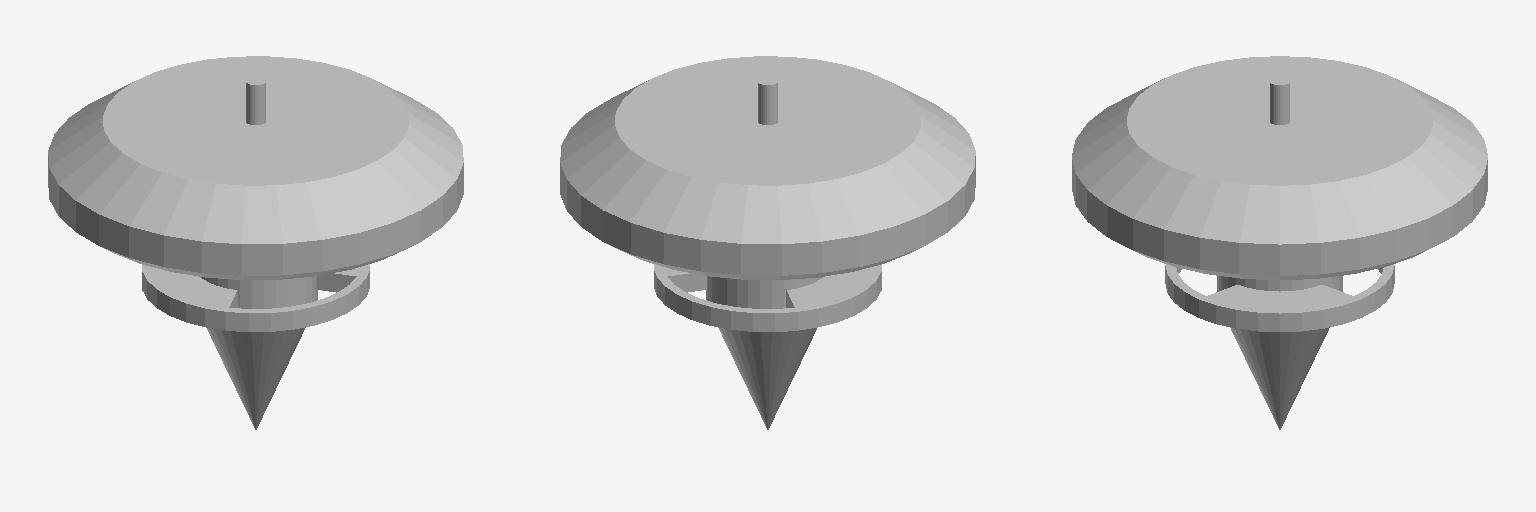
Rendered from Player.obj.
The picture shows the model from 3 angles: view 1: azimuth 30°, elevation 25°; view 2: azimuth 150°, elevation 25°; view 3: azimuth 270°, elevation 25°; orthographic projection.
Parts seen in each view (by area): view 1: 円柱.001, 円柱.003, 円錐, 円柱, 円柱.002; view 2: 円柱.001, 円柱.003, 円錐, 円柱, 円柱.002; view 3: 円柱.001, 円柱.003, 円錐, 円柱, 円柱.002.
Boxes of the visible parts, x1,y1,x2,y2 form: 円柱.001: [48, 56, 463, 279]; 円柱.003: [142, 264, 369, 331]; 円錐: [207, 327, 305, 429]; 円柱: [201, 276, 317, 308]; 円柱.002: [246, 77, 265, 124]; 円柱.001: [560, 56, 975, 279]; 円柱.003: [654, 264, 881, 331]; 円錐: [718, 327, 816, 429]; 円柱: [706, 276, 822, 308]; 円柱.002: [758, 77, 777, 124]; 円柱.001: [1072, 56, 1487, 279]; 円柱.003: [1165, 264, 1394, 331]; 円錐: [1230, 327, 1329, 429]; 円柱: [1217, 276, 1342, 291]; 円柱.002: [1270, 77, 1289, 124].
Size of the model in its own units: 4 by 3.71 by 4.